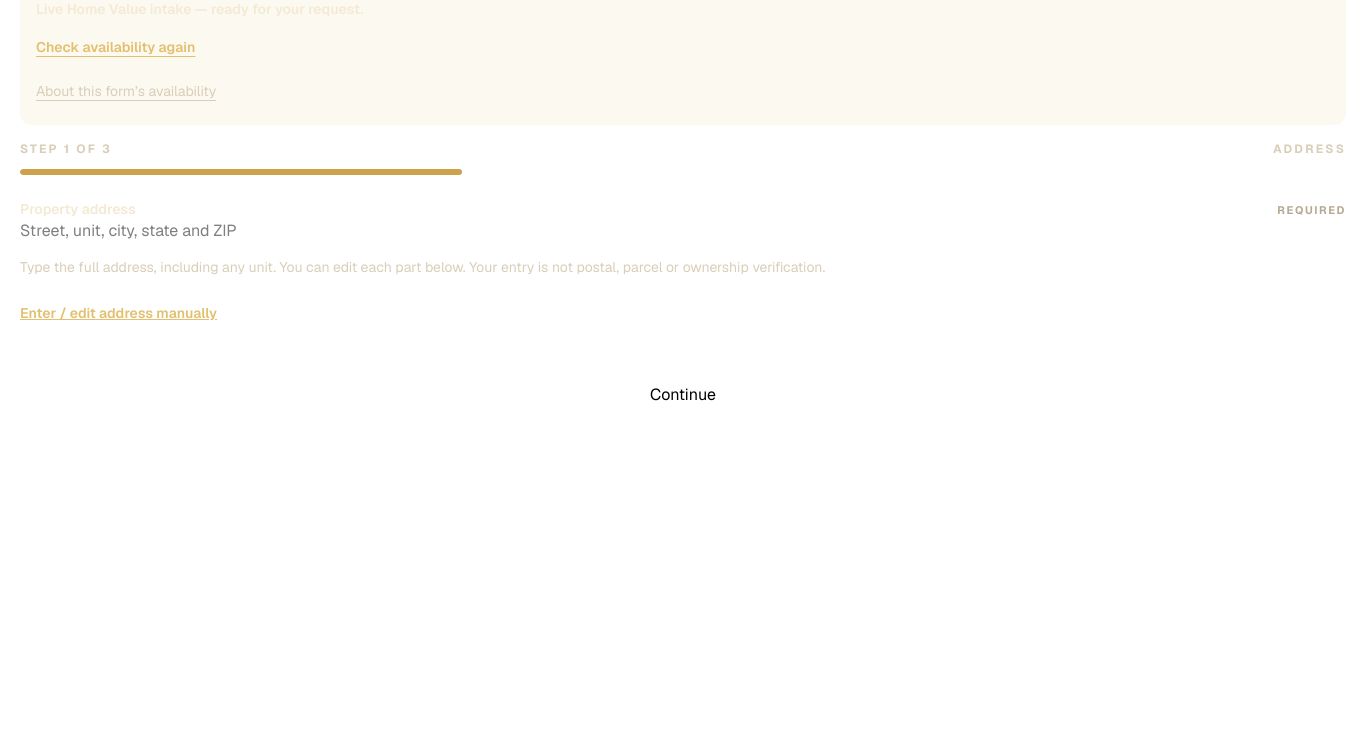
it: client replay analytics suppression › keeps widget home-value replay success visible without fresh lead analytics
This screenshot has width=1366, height=731.
Type "123 Replay Road, Wilson NC" into the dropdown labelled "Property address".
click(129, 231); type("123 Replay Road, Wilson NC")  # box x1=20 y1=219 x2=238 y2=243
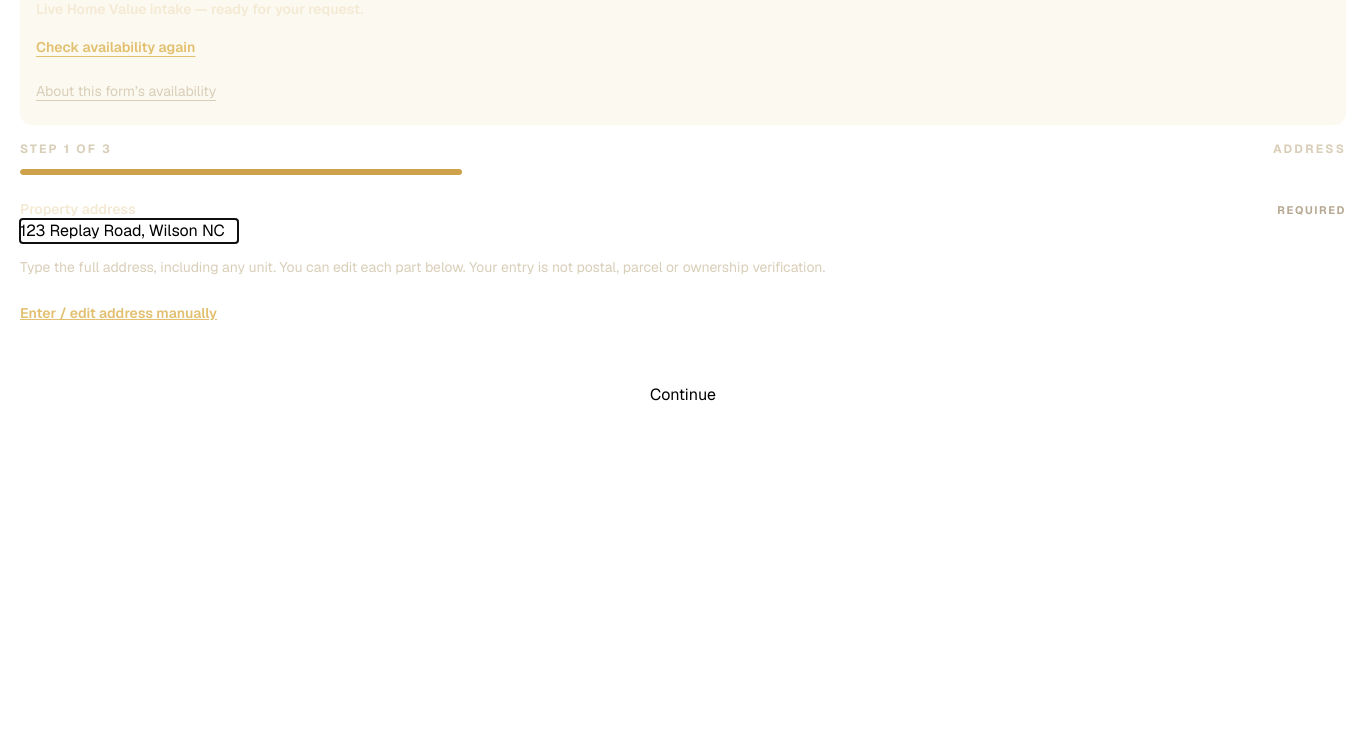
Click the button "Continue".
click(683, 395)  # box x1=20 y1=367 x2=1346 y2=423
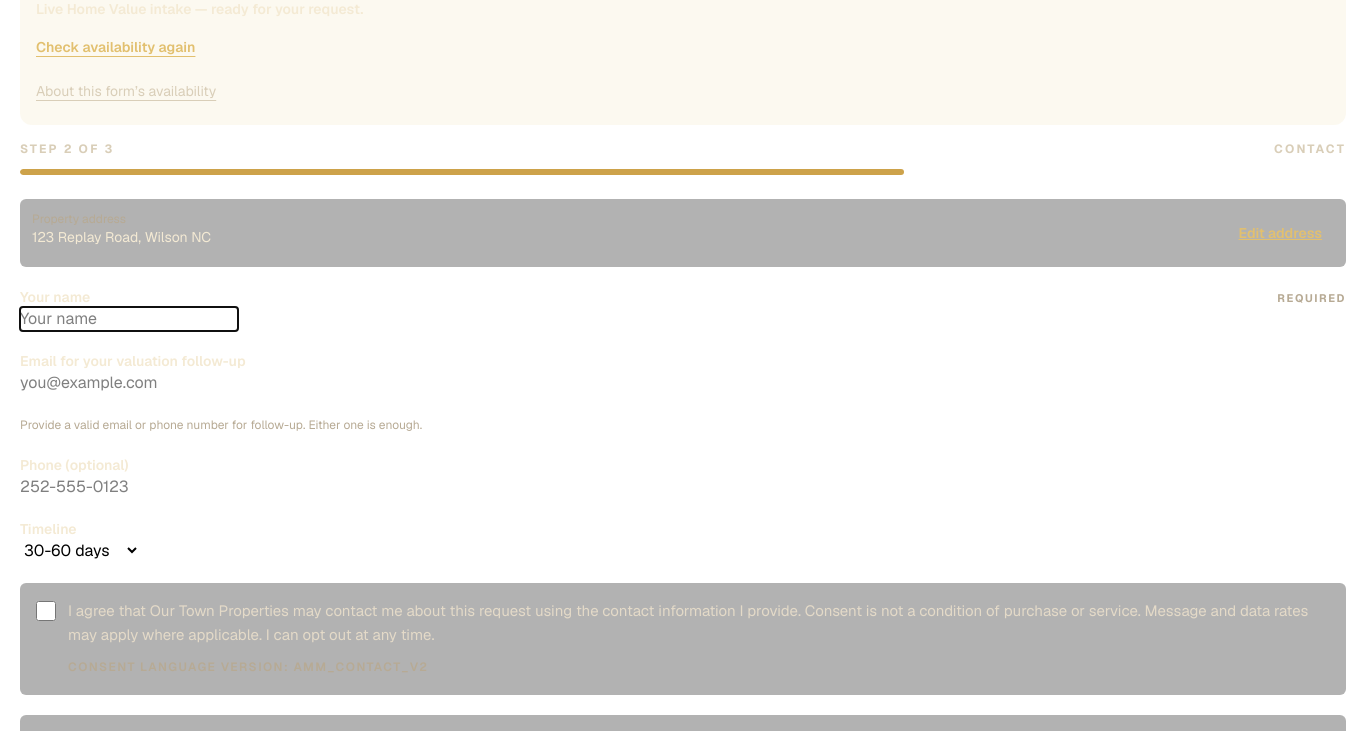
Type "INTERNAL QA DO NOT CONTACT" into the field labelled "Your name".
click(129, 319); type("INTERNAL QA DO NOT CONTACT")  # box x1=20 y1=307 x2=238 y2=331
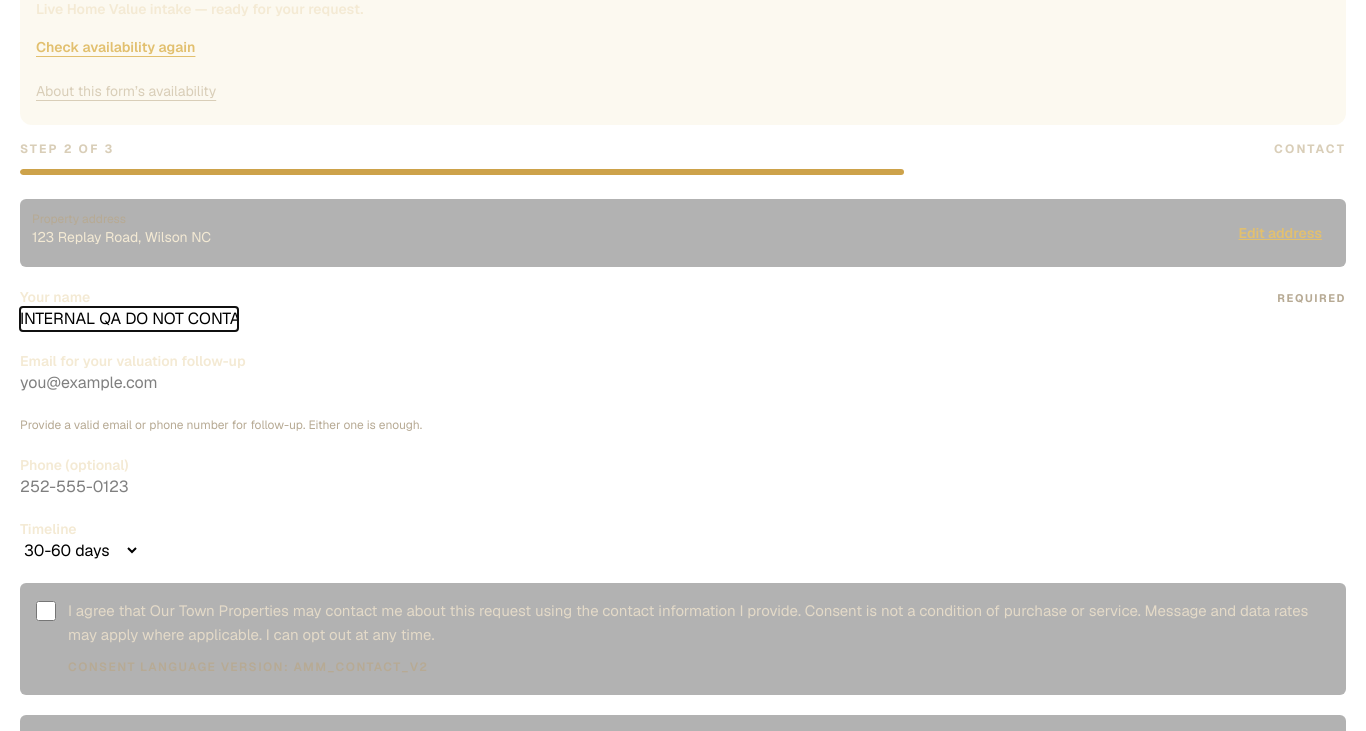
Type "replay@example.test" into the field labelled "Email for your valuation follow-up".
click(129, 383); type("replay@example.test")  # box x1=20 y1=371 x2=238 y2=395
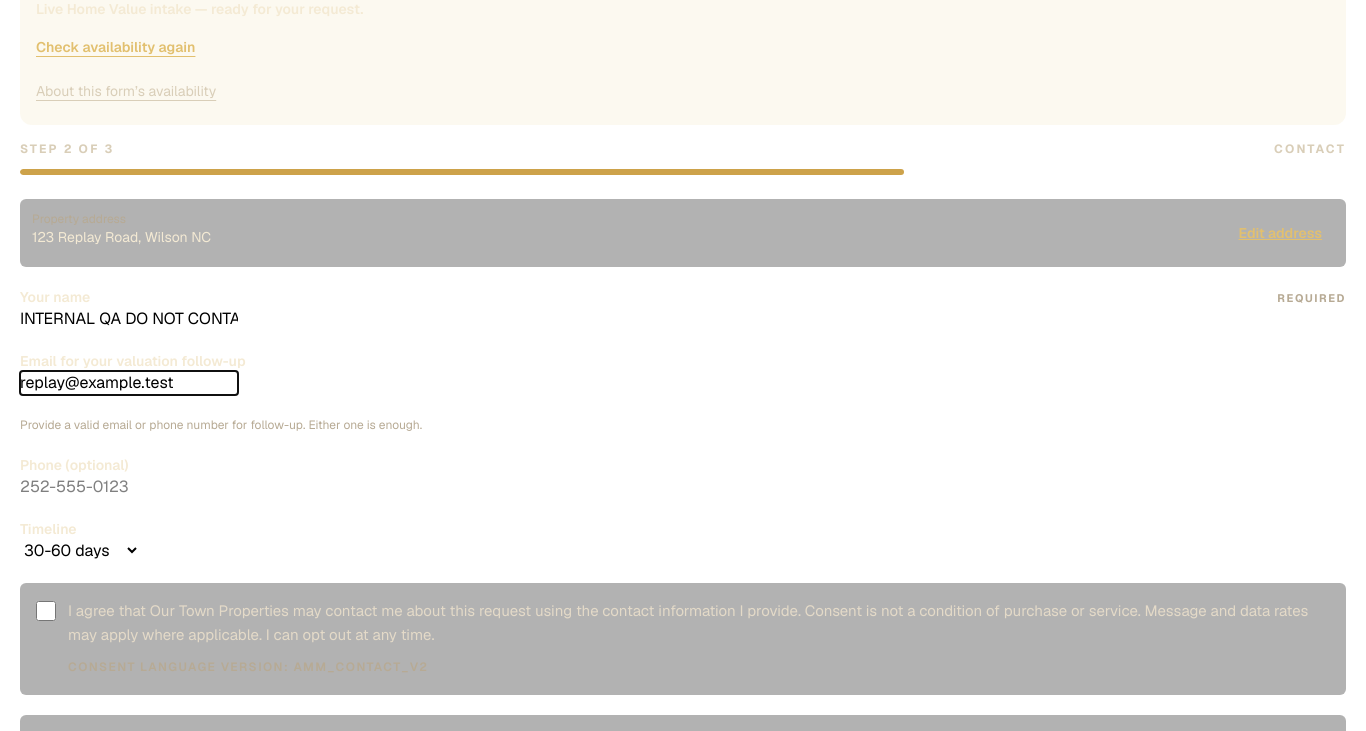
Type "2525550123" into the field labelled "Phone (optional)".
click(129, 487); type("2525550123")  # box x1=20 y1=475 x2=238 y2=499
(page scrolled)
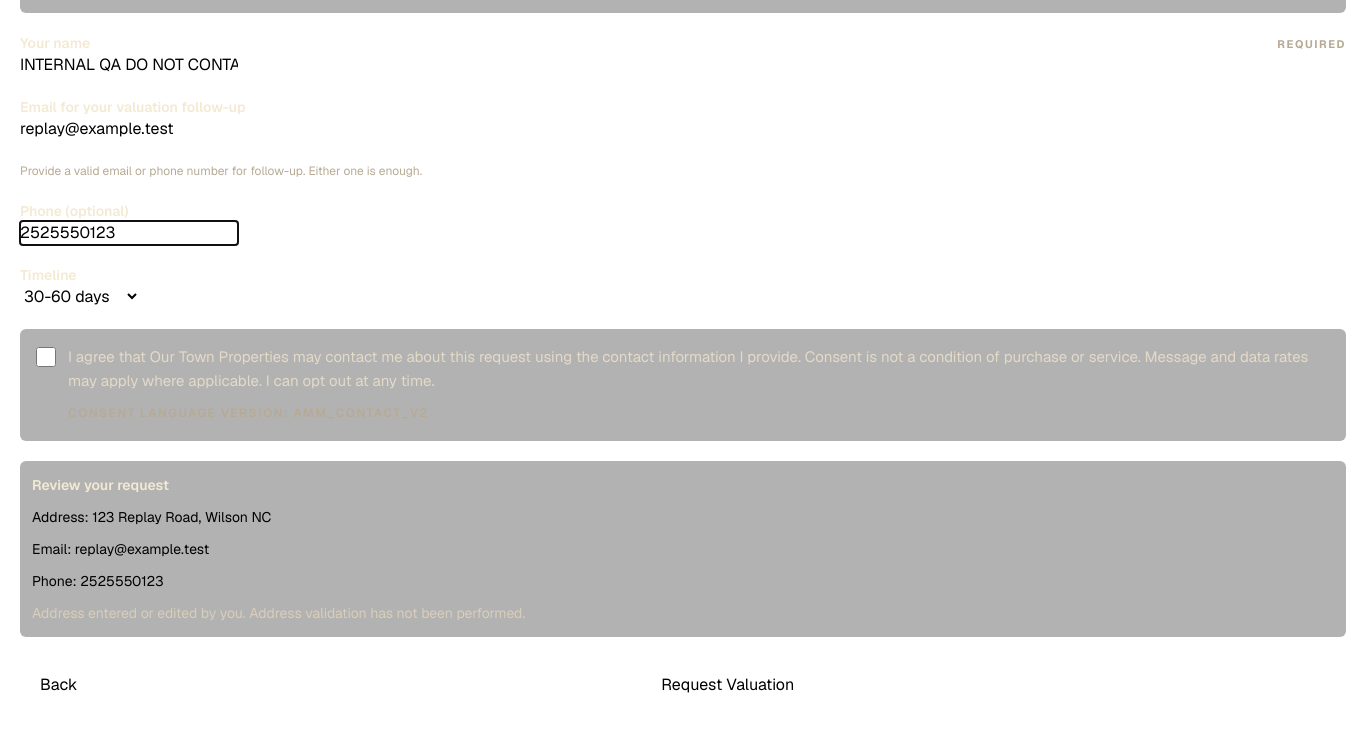
Click the button "Request Valuation".
click(728, 685)  # box x1=110 y1=657 x2=1346 y2=713
(page scrolled)
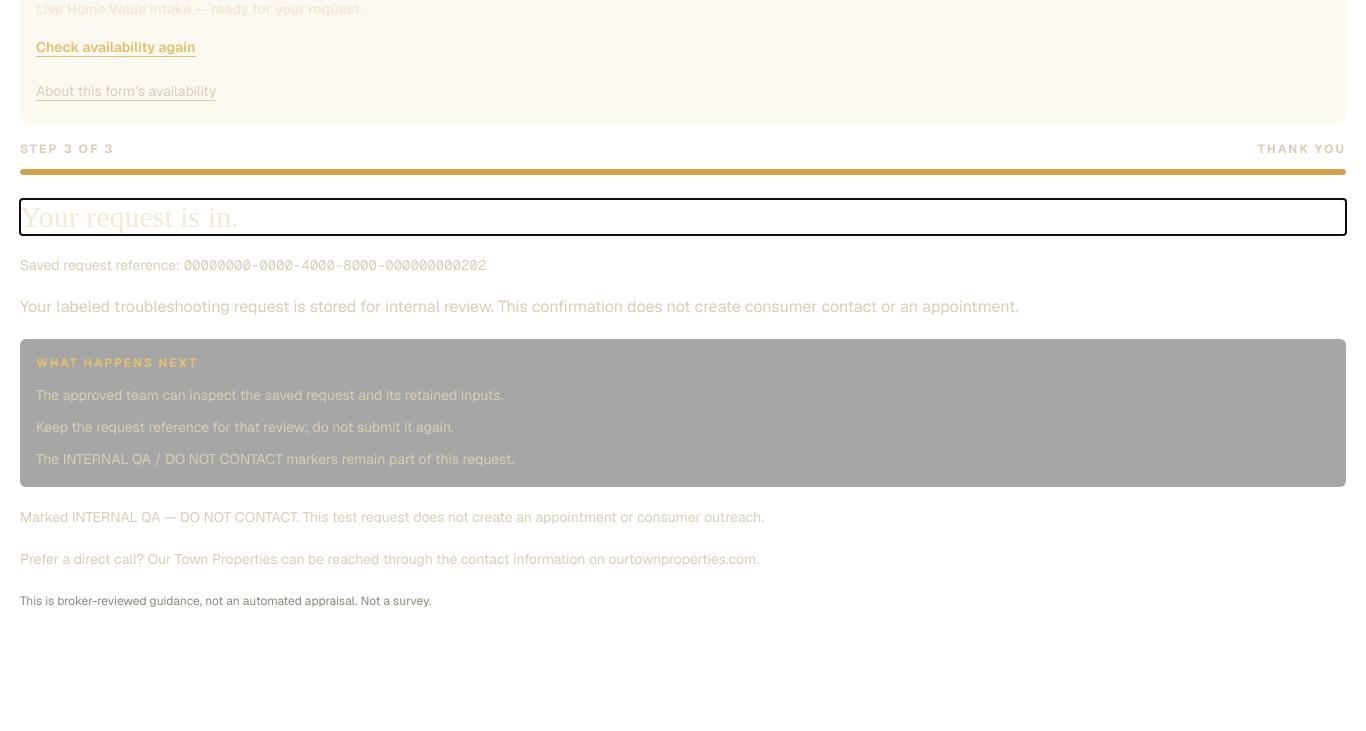
Expected: the heading "Your request is in." is shown, x1=20 y1=200 x2=239 y2=233
Expected: the text "Your labeled troubleshooting request is stored for internal review. This confirmation does not create consumer contact o" is shown, x1=20 y1=296 x2=1019 y2=317
